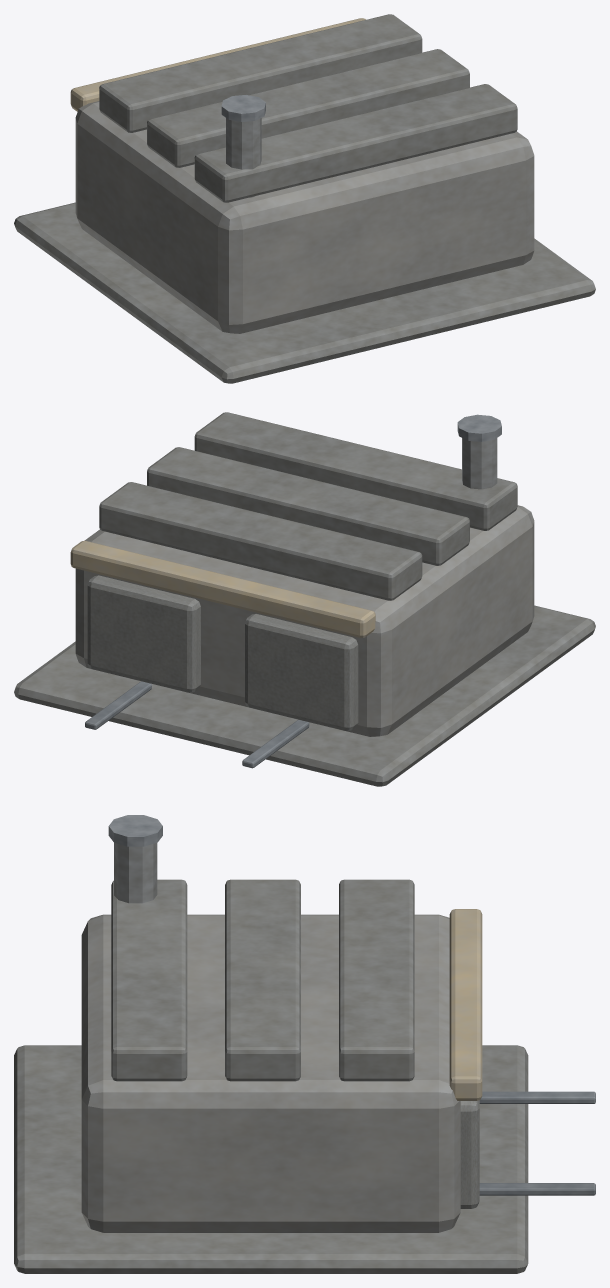
The model's file is com_factory.glb.
3 renders of one model, top to bottom at view 1: azimuth 30°, elevation 25°; view 2: azimuth 150°, elevation 25°; view 3: azimuth 270°, elevation 25°, orthographic. The views are drawn at different scales.
Parts seen in each view (by area): view 1: com_factory; view 2: com_factory, door1, door0; view 3: com_factory, door1.
Part boxes in pixels (x1,y1,x2,y2): com_factory: (14,14,595,383); com_factory: (14,412,595,786); door1: (87,575,200,692); door0: (245,614,358,730); com_factory: (14,815,595,1273); door1: (460,1100,479,1208).
Bounding box in the file's own units: 1.9 × 1.12 × 2.15.
Materials: 3 (3 with a texture image).
